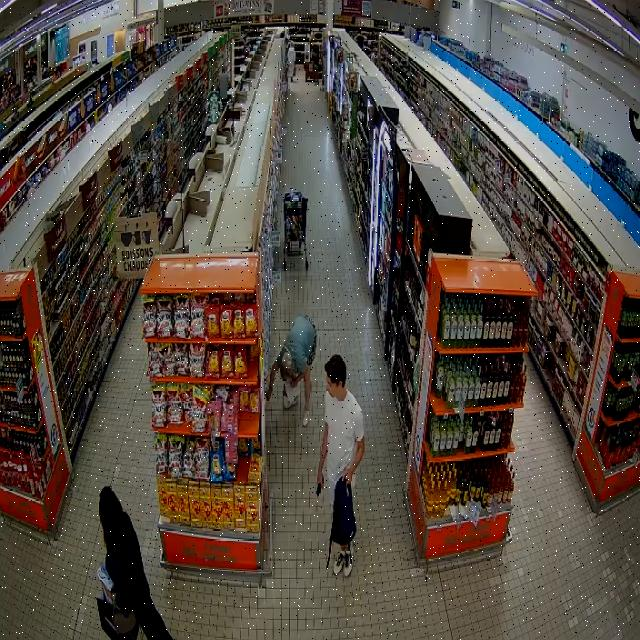article: (97, 563, 113, 590), (265, 390, 267, 398)
bags: (327, 478, 356, 568), (97, 597, 139, 639)
hands: (344, 467, 353, 485), (266, 385, 272, 401), (290, 377, 299, 387), (318, 471, 323, 488)
person: (100, 487, 171, 639), (318, 355, 364, 505), (267, 315, 317, 426)
